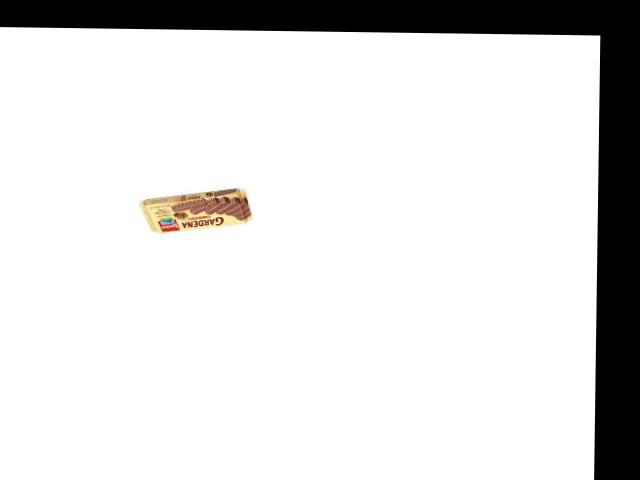chocolate: (134, 191, 258, 236)
